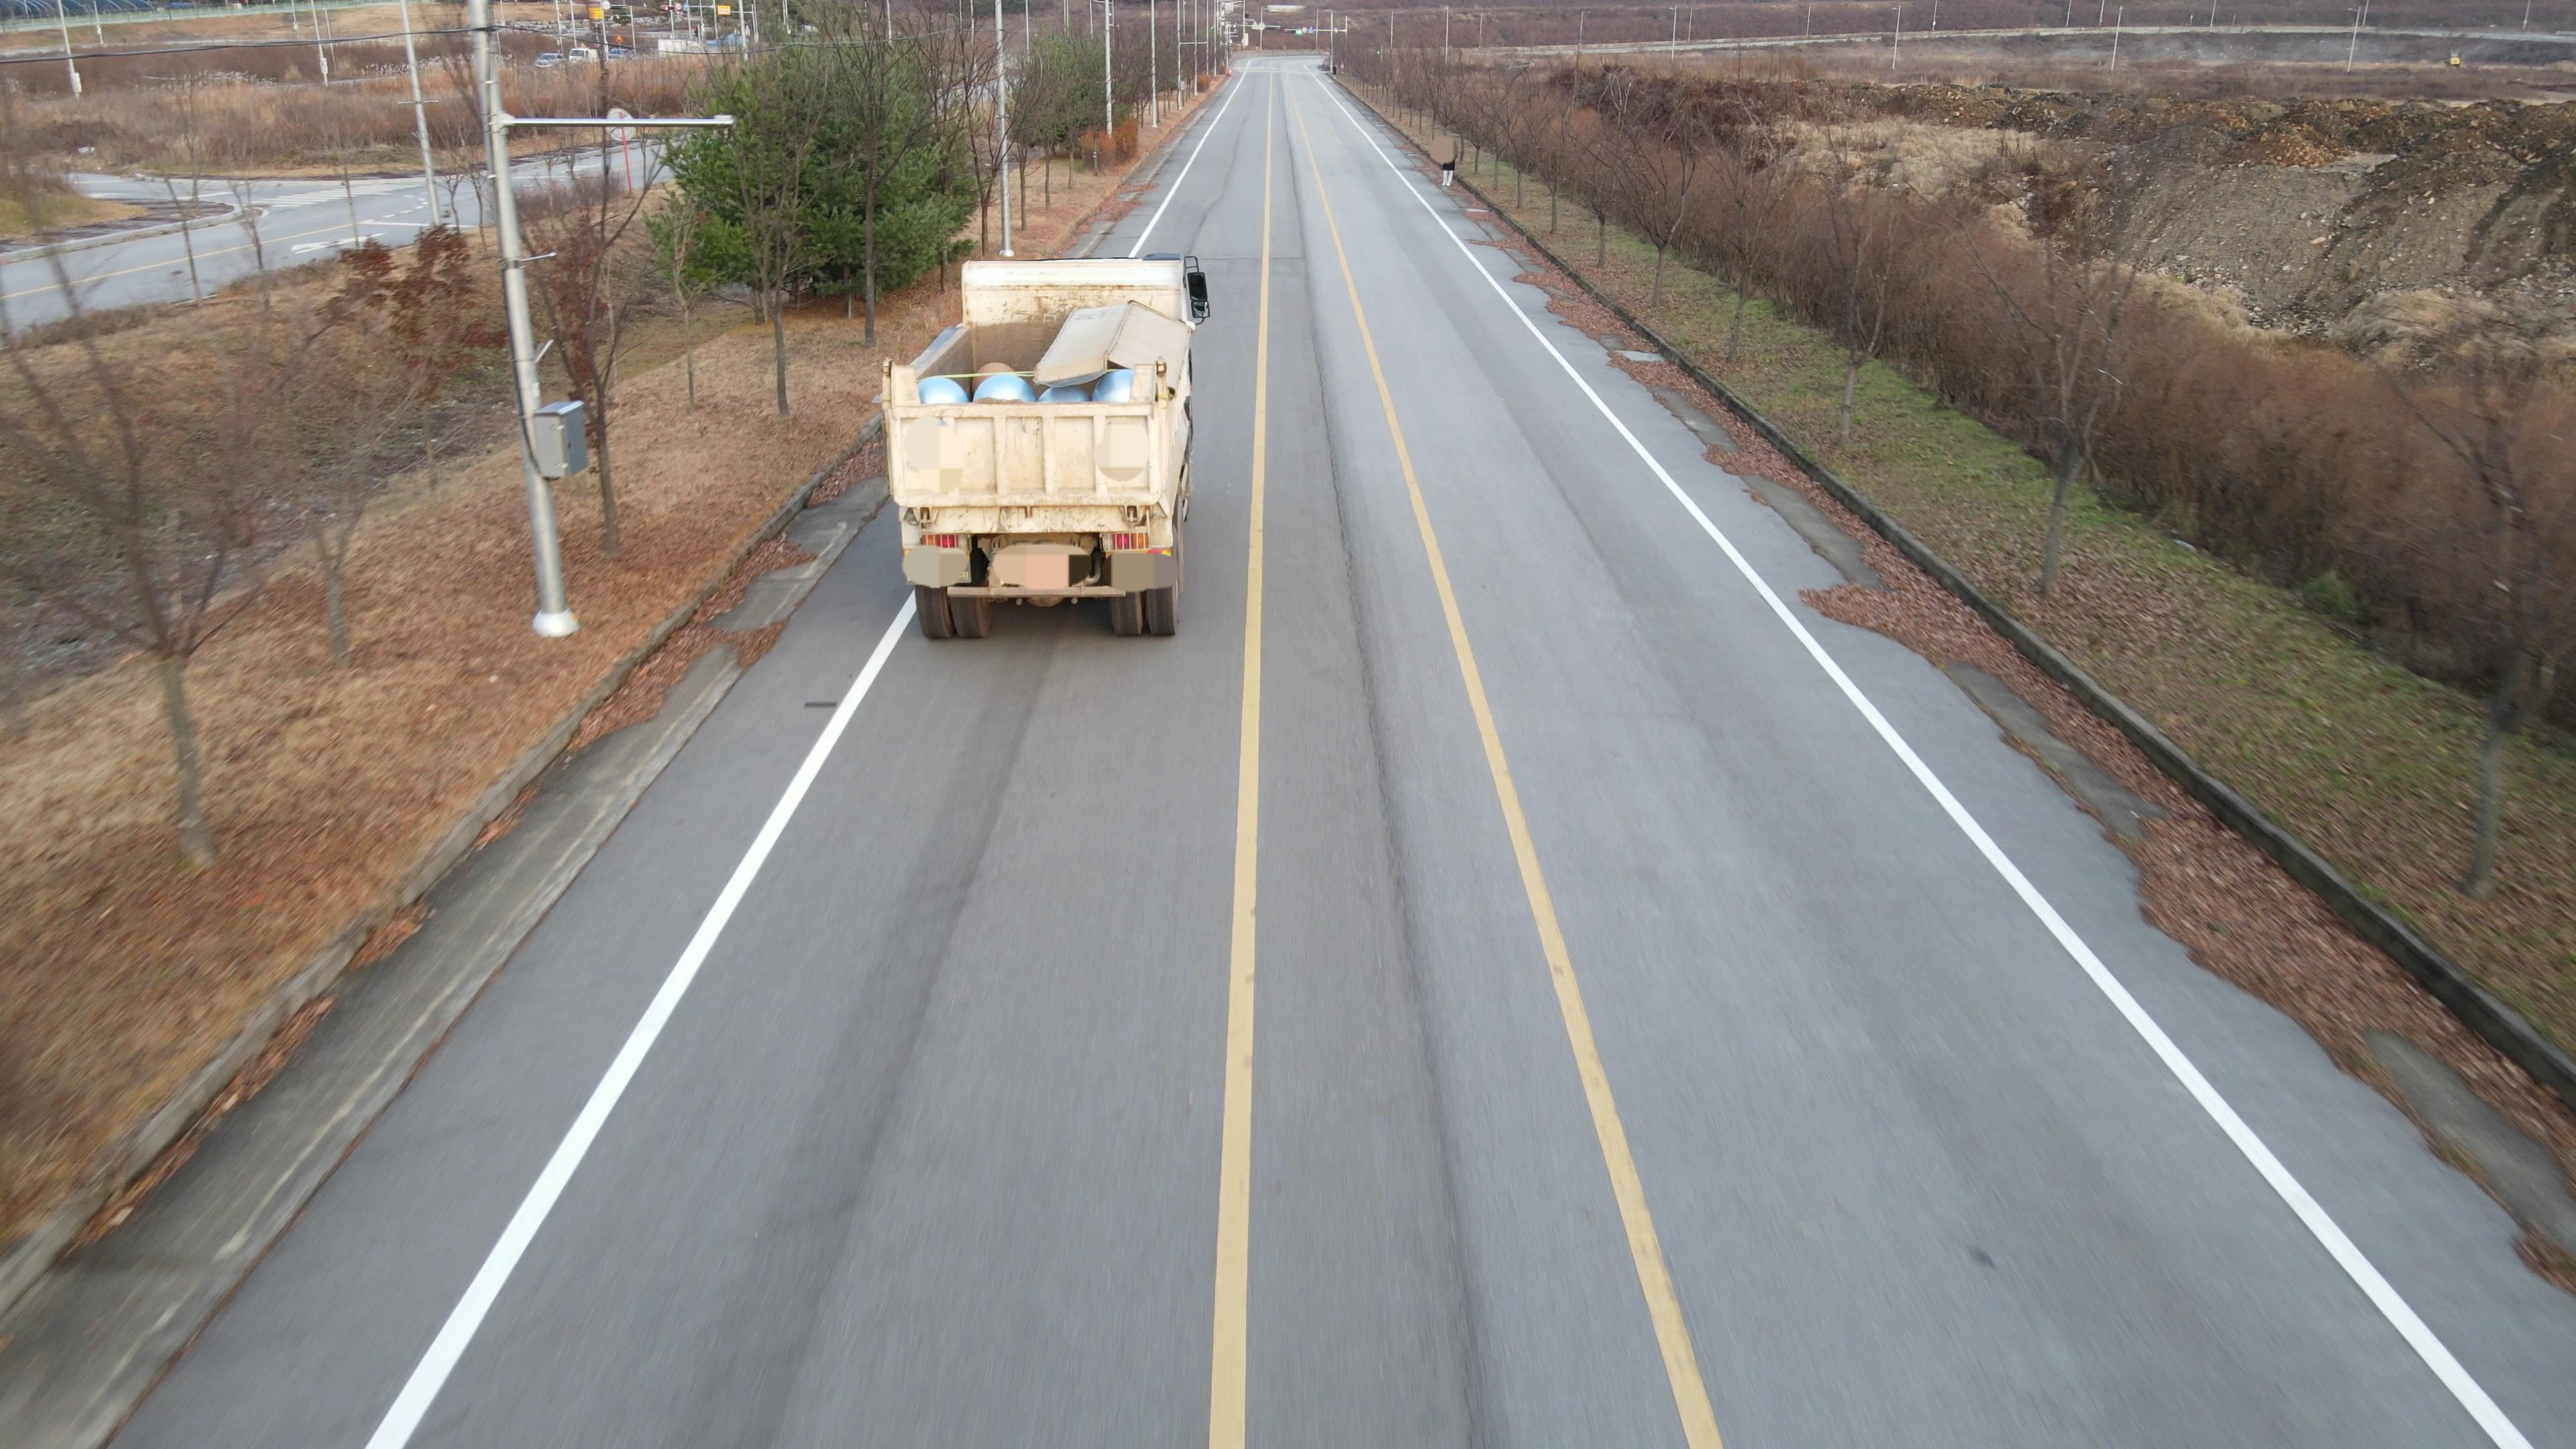불법차량: (870, 253, 1210, 640)
